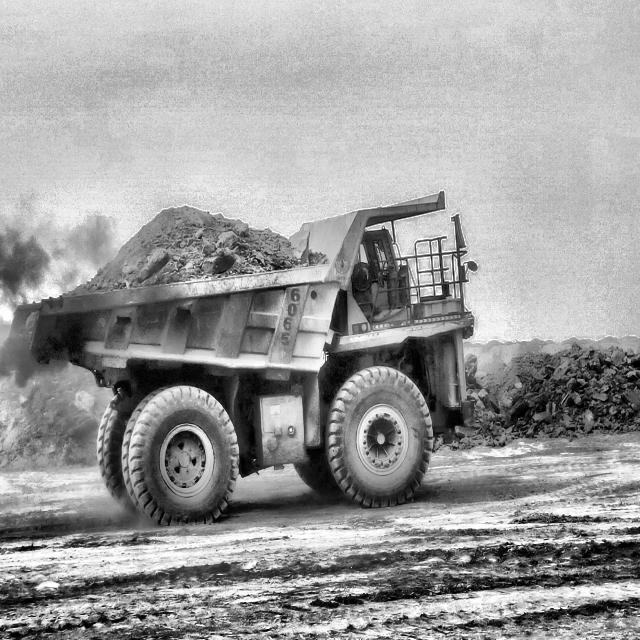dump_truck: (12, 193, 475, 527)
